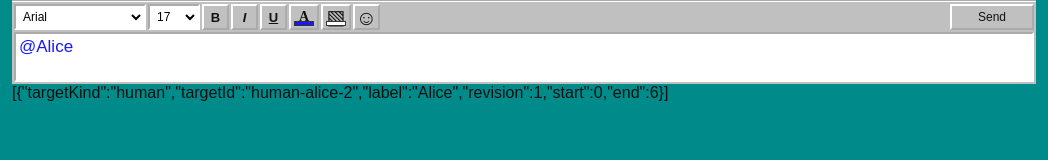
it: participant mention autocomplete › preserves an existing stable target when an identical token is pasted before it
The image size is (1048, 160).
Replace the text in the text box named "Message" with "@Alice @Alice" at (524,57), box x1=14 y1=32 x2=1034 y2=82
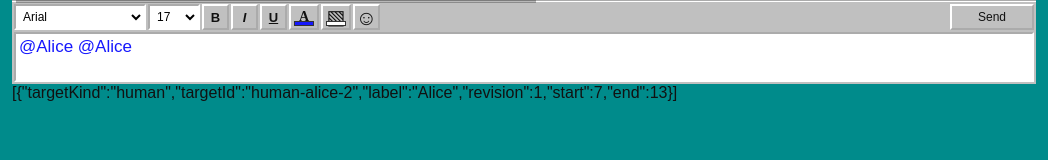
Result: the text named "Paste mention metadata" shows "\"start\":7,\"end\":13" at x1=12 y1=84 x2=677 y2=101
